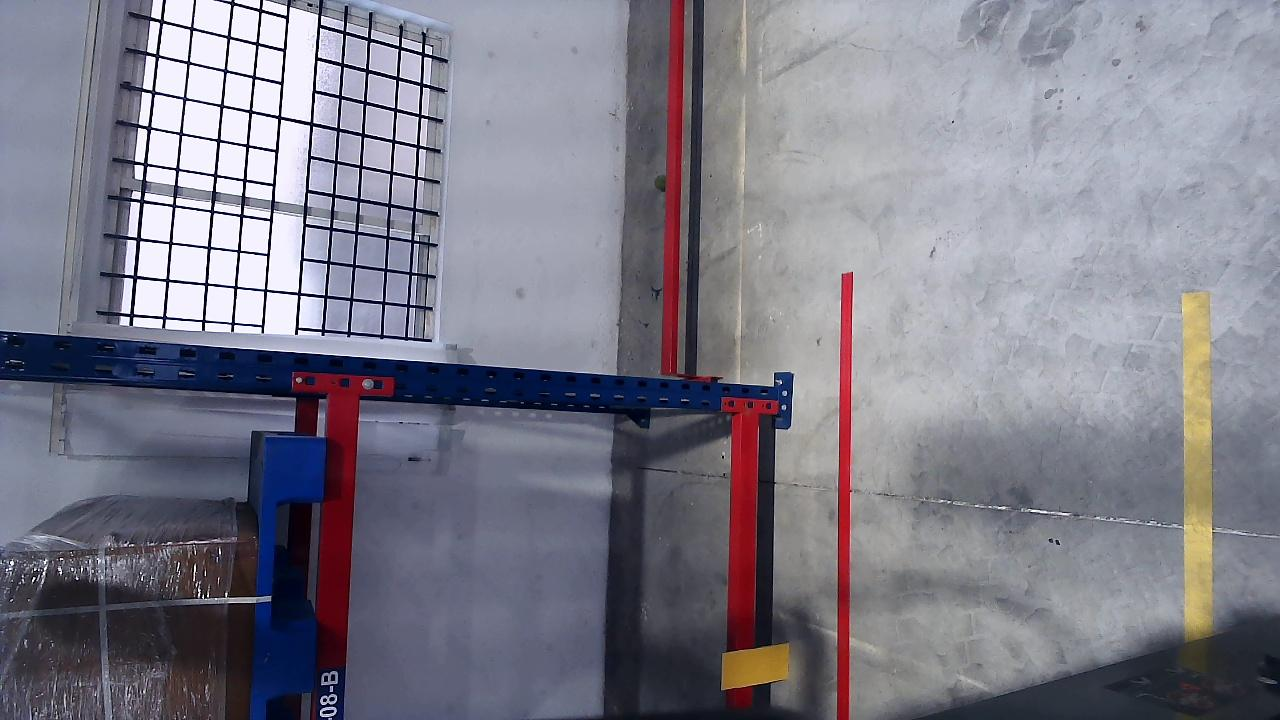h_rack: (308, 394, 363, 719), (729, 412, 762, 709)
orange_strip: (720, 642, 789, 689)
red_line: (835, 273, 854, 717)
small_pallet: (249, 438, 327, 718)
yellow_line: (1182, 298, 1215, 635)
